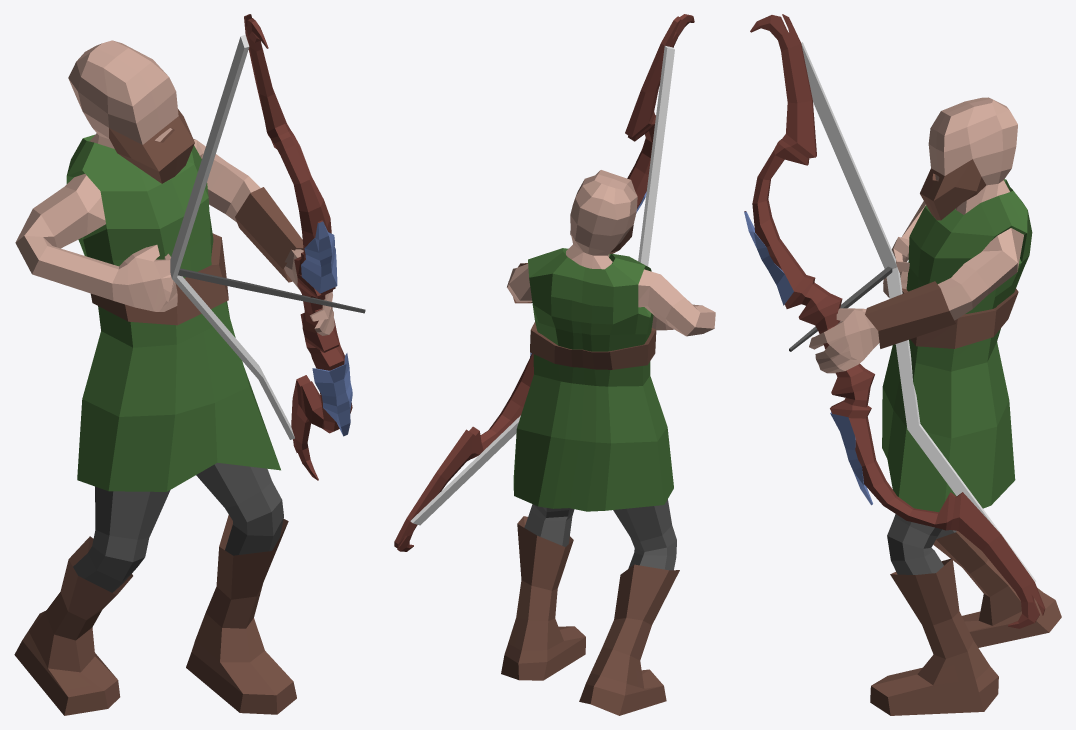
File: ArcherPose.fbx
The picture shows the model from 3 angles, left to right: view 1: azimuth 30°, elevation 25°; view 2: azimuth 150°, elevation 25°; view 3: azimuth 270°, elevation 25°; orthographic projection. The views are drawn at different scales.
Parts seen in each view (by area): view 1: Archer; view 2: Archer; view 3: Archer.
Boxes of the visible parts, x1,y1,x2,y2 form: Archer: (14,14,365,715); Archer: (394,14,715,715); Archer: (744,14,1061,715).
Size of the model in its own units: 259 by 560 by 246.
